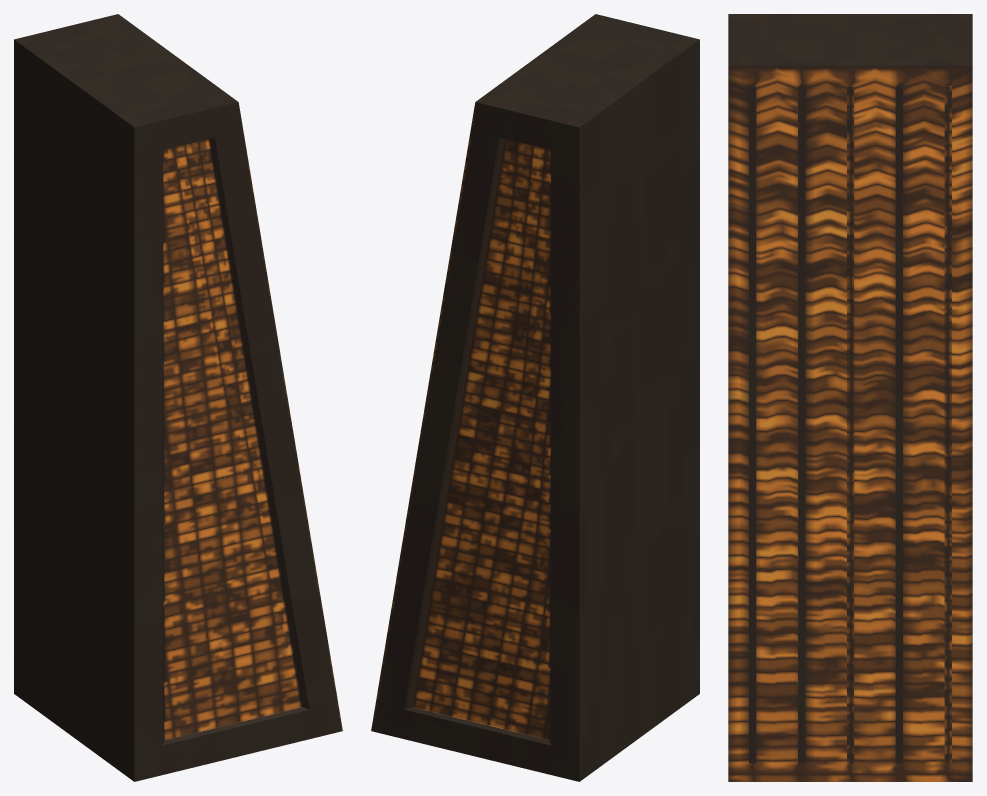
The model's file is BuildingSlanted.fbx.
3 renders of one model, left to right at view 1: azimuth 30°, elevation 25°; view 2: azimuth 150°, elevation 25°; view 3: azimuth 270°, elevation 25°, orthographic.
Parts seen in each view (by area): view 1: BuildingSlanted; view 2: BuildingSlanted; view 3: BuildingSlanted.
Part boxes in pixels (x1,y1,x2,y2): BuildingSlanted: (14,14,342,781); BuildingSlanted: (371,14,699,781); BuildingSlanted: (728,14,972,781).
Bounding box in the file's own units: 201 × 600 × 200.
